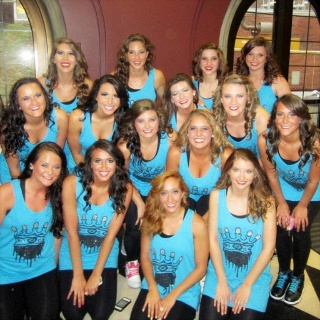without_mask: (17, 83, 46, 117), (32, 151, 60, 186), (186, 114, 214, 148), (90, 149, 116, 182), (222, 83, 247, 116), (98, 82, 122, 115), (133, 109, 160, 138), (158, 179, 181, 213), (277, 103, 299, 136), (228, 159, 252, 188), (53, 43, 76, 73), (171, 80, 194, 110), (246, 45, 265, 71), (128, 42, 145, 68), (199, 48, 216, 73)
